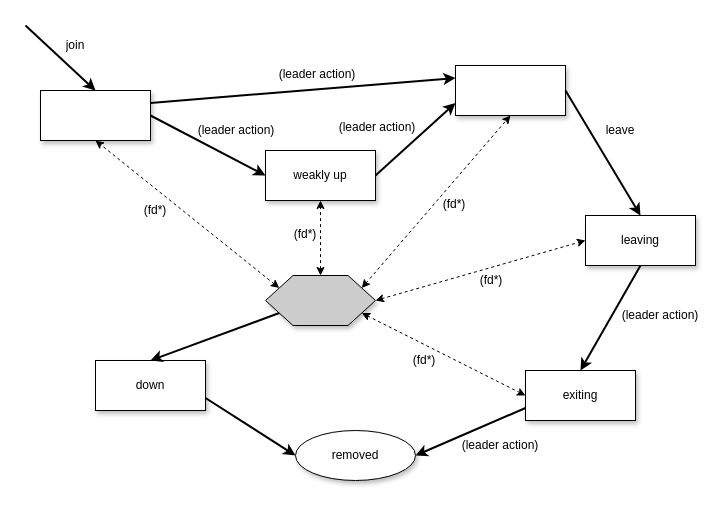
Some shapes in this 728 by 505 pixel diagram are drawn without their labels. Here are the shapes that lost their labels. From the top down, the centre of each, then its label:
the point at 511,91: up
the point at 96,117: joining
the point at 321,301: unreachable*
